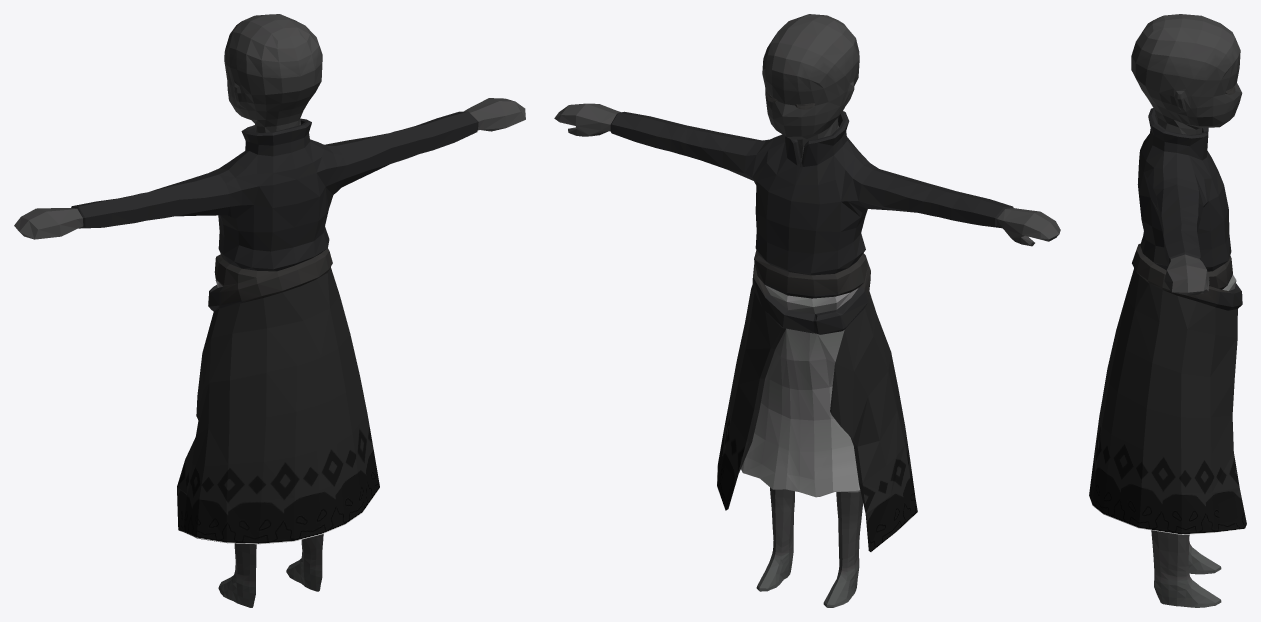
Rendered from CharSkyKid_Body_Goth.glb.
3 renders of one model, left to right at view 1: azimuth 30°, elevation 25°; view 2: azimuth 150°, elevation 25°; view 3: azimuth 270°, elevation 25°, orthographic.
Visible parts, largest first — view 1: CharSkyKid_Body_Goth; view 2: CharSkyKid_Body_Goth; view 3: CharSkyKid_Body_Goth.
Part boxes in pixels (bbox=[...]): CharSkyKid_Body_Goth: bbox=[14, 14, 525, 607]; CharSkyKid_Body_Goth: bbox=[554, 14, 1060, 607]; CharSkyKid_Body_Goth: bbox=[1089, 14, 1246, 607].
Size of the model in its own units: 13.83 by 14.94 by 3.76.
1 material, 1 textured.
